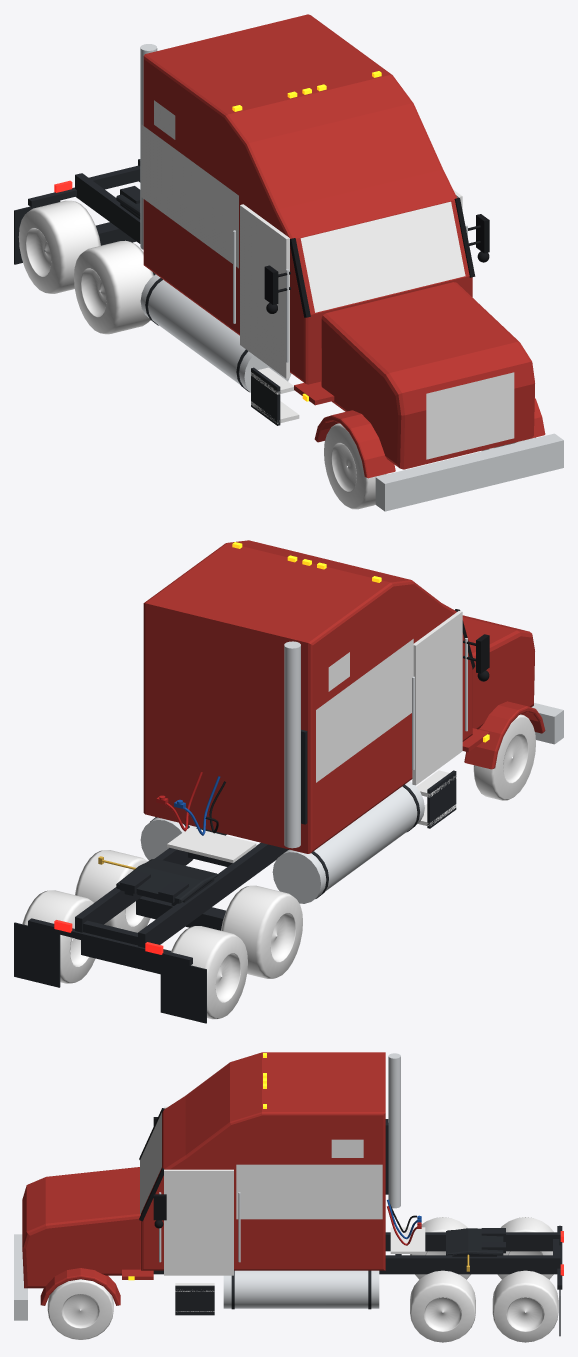
The model's file is fleet--semiTractor_sleeper.glb.
3 views of the same model, one above another, from view 1: azimuth 30°, elevation 25°; view 2: azimuth 150°, elevation 25°; view 3: azimuth 270°, elevation 25° (orthographic). The views are drawn at different scales.
Parts seen in each view (by area): view 1: semiTractor-sleeper:shell, hood, doorR, axle2, axle3, wheelFR, mirrorR, mirrorL; view 2: semiTractor-sleeper:shell, axle2, doorR, axle3, hood, wheelFR, fifthWheel, mirrorR; view 3: semiTractor-sleeper:shell, hood, doorL, axle3, axle2, wheelFL, fifthWheel, mirrorL.
Part boxes in pixels (box(x1,y1,x2,y2)): semiTractor-sleeper:shell: box(14, 14, 563, 511); hood: box(321, 282, 534, 469); doorR: box(240, 204, 289, 378); axle2: box(74, 240, 153, 334); axle3: box(18, 200, 100, 293); wheelFR: box(324, 423, 386, 509); mirrorR: box(264, 265, 290, 313); mirrorL: box(466, 214, 489, 262); semiTractor-sleeper:shell: box(14, 540, 563, 1023); axle2: box(75, 850, 302, 978); doorR: box(412, 611, 462, 785); axle3: box(22, 890, 247, 1019); hood: box(462, 615, 534, 729); wheelFR: box(473, 714, 535, 800); fifthWheel: box(116, 858, 218, 905); mirrorR: box(463, 634, 489, 681); semiTractor-sleeper:shell: box(14, 1052, 562, 1336); hood: box(22, 1167, 140, 1288); doorL: box(164, 1169, 233, 1275); axle3: box(492, 1217, 558, 1342); axle2: box(410, 1217, 475, 1342); wheelFL: box(47, 1279, 113, 1339); fifthWheel: box(446, 1228, 505, 1256); mirrorL: box(153, 1194, 166, 1228).
Size of the model in its own units: 3.02 by 3.99 by 8.65.
